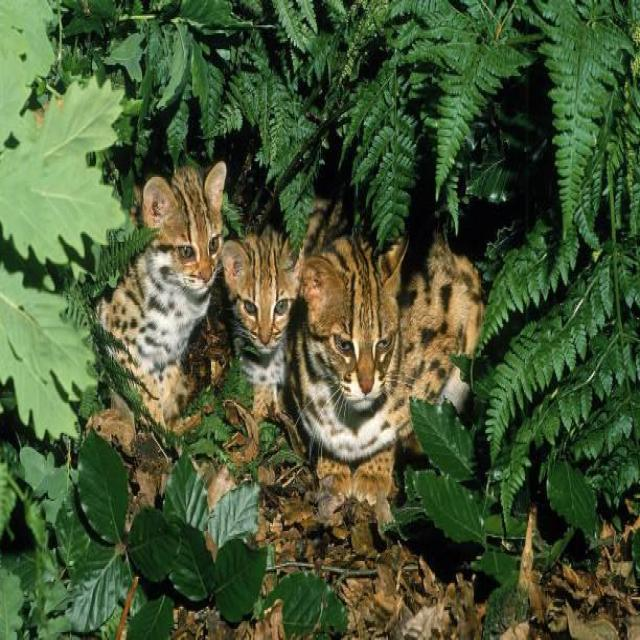leopard: (304, 236, 471, 472), (122, 143, 244, 402), (215, 198, 322, 454)
